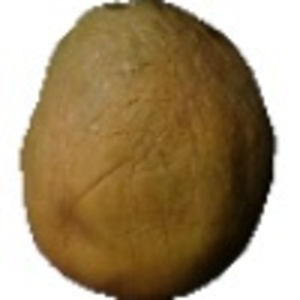mamão: (14, 3, 280, 295)
